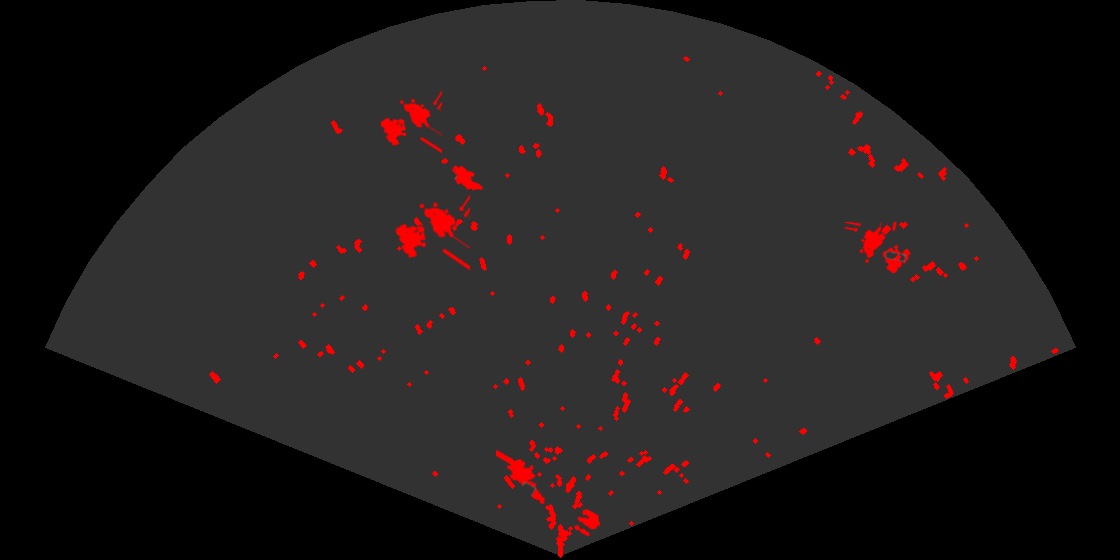AUV: (450, 164, 485, 192)
ball: (572, 507, 602, 538)
cage: (394, 193, 470, 272), (379, 89, 442, 155), (845, 222, 913, 275)
frogman: (496, 450, 547, 506)
